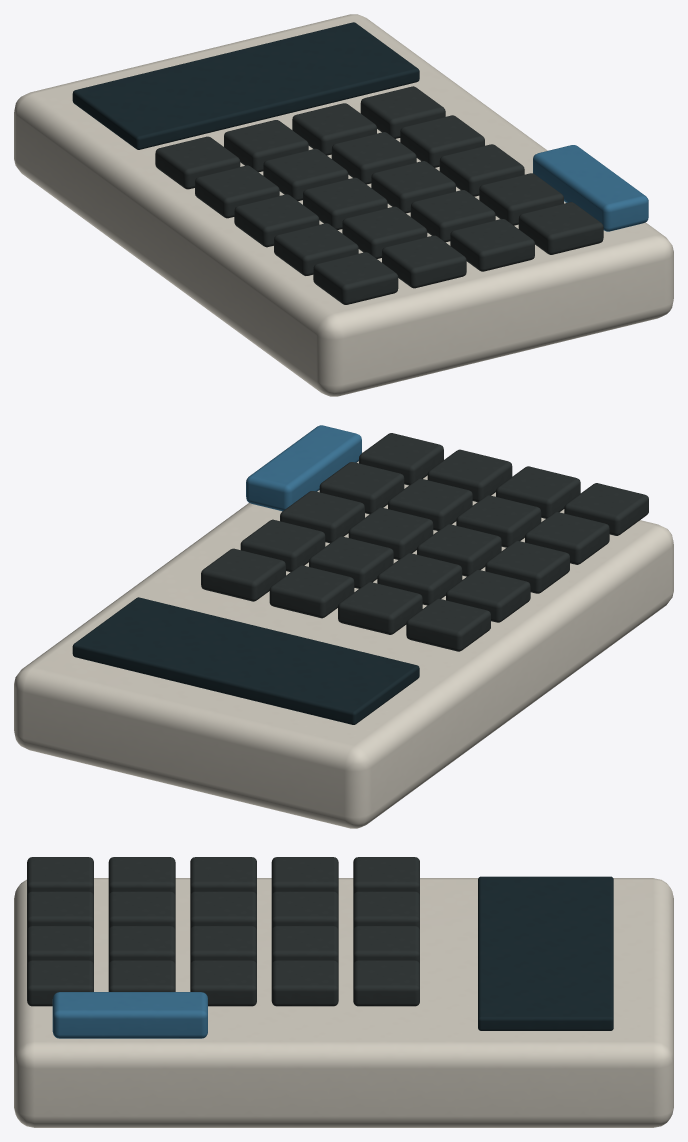
File: calculator.glb
3 renders of one model, top to bottom at view 1: azimuth 30°, elevation 25°; view 2: azimuth 150°, elevation 25°; view 3: azimuth 270°, elevation 25°, orthographic. The views are drawn at different scales.
Parts seen in each view (by area): view 1: Calculator body, Calculator display, Large equals key, Tactile key, Tactile key.003, Tactile key.001, Tactile key.002, Tactile key.008, Tactile key.016, Tactile key.012, Tactile key.004, Tactile key.019 (+11 smaller); view 2: Calculator body, Calculator display, Large equals key, Tactile key.016, Tactile key.018, Tactile key.019, Tactile key.017, Tactile key.008, Tactile key.004, Tactile key.012, Tactile key, Tactile key.010 (+11 smaller); view 3: Calculator body, Calculator display, Large equals key, Tactile key.015, Tactile key.019, Tactile key.011, Tactile key.003, Tactile key.013, Tactile key.005, Tactile key.006, Tactile key.004, Tactile key.012 (+11 smaller).
Boxes of the visible parts, <box> form: Calculator body: <box>14,14,673,396</box>; Calculator display: <box>72,22,419,149</box>; Large equals key: <box>533,145,648,231</box>; Tactile key: <box>313,252,398,304</box>; Tactile key.003: <box>518,202,603,254</box>; Tactile key.001: <box>382,235,466,288</box>; Tactile key.002: <box>450,219,534,271</box>; Tactile key.008: <box>234,194,319,247</box>; Tactile key.016: <box>155,136,240,189</box>; Tactile key.012: <box>195,165,279,218</box>; Tactile key.004: <box>274,223,358,275</box>; Tactile key.019: <box>360,86,445,138</box>; Calculator body: <box>14,452,673,828</box>; Calculator display: <box>72,597,419,724</box>; Large equals key: <box>246,425,361,511</box>; Tactile key.016: <box>406,598,490,651</box>; Tactile key.018: <box>269,565,354,618</box>; Tactile key.019: <box>201,548,285,601</box>; Tactile key.017: <box>338,582,422,634</box>; Tactile key.008: <box>485,541,569,593</box>; Tactile key.004: <box>525,512,609,564</box>; Tactile key.012: <box>446,570,530,622</box>; Tactile key: <box>564,483,648,535</box>; Tactile key.010: <box>348,507,433,559</box>; Calculator body: <box>14,878,673,1127</box>; Calculator display: <box>478,876,613,1030</box>; Large equals key: <box>52,992,207,1038</box>; Tactile key.015: <box>271,960,338,1006</box>; Tactile key.019: <box>353,960,419,1006</box>; Tactile key.011: <box>190,960,256,1006</box>; Tactile key.003: <box>27,960,93,1006</box>; Tactile key.013: <box>271,891,338,930</box>; Tactile key.005: <box>108,891,175,930</box>; Tactile key.006: <box>108,926,175,964</box>; Tactile key.004: <box>108,857,175,895</box>; Tactile key.012: <box>271,857,338,895</box>.
Size of the model in its own units: 0.109 by 0.033 by 0.17.
4 materials, 4 textured.
